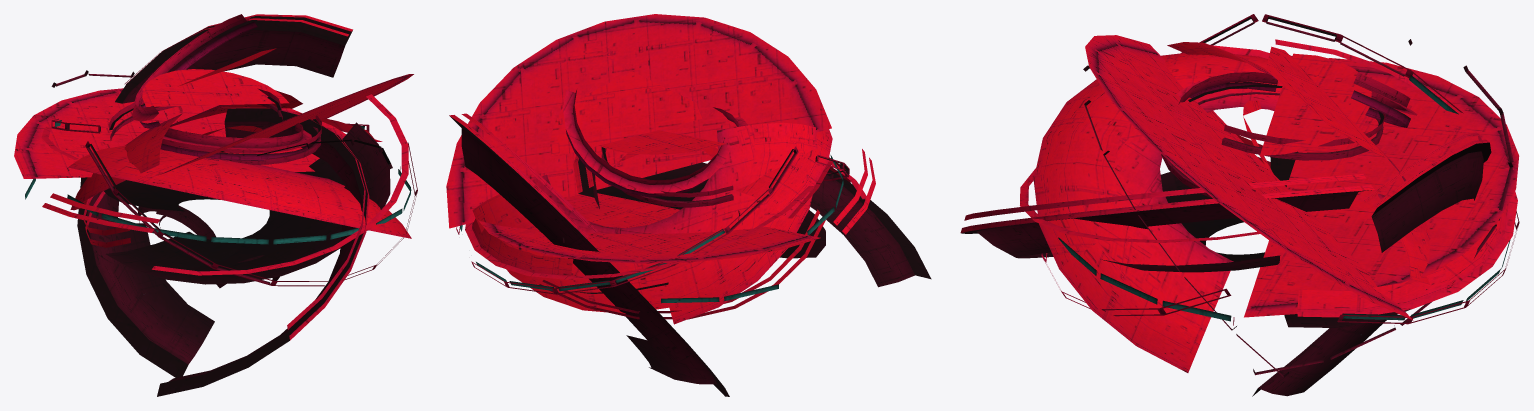
Rendered from MonsterB_Die2.obj.
The picture shows the model from 3 angles, left to right: view 1: azimuth 30°, elevation 25°; view 2: azimuth 150°, elevation 25°; view 3: azimuth 270°, elevation 25°; orthographic projection. The views are drawn at different scales.
Parts seen in each view (by area): view 1: Sphere001; view 2: Sphere001; view 3: Sphere001.
Boxes of the visible parts, <box> form: Sphere001: <box>14,14,417,396</box>; Sphere001: <box>446,14,931,396</box>; Sphere001: <box>960,14,1519,396</box>.
Size of the model in its own units: 217 by 176 by 229.
1 material, 1 textured.
